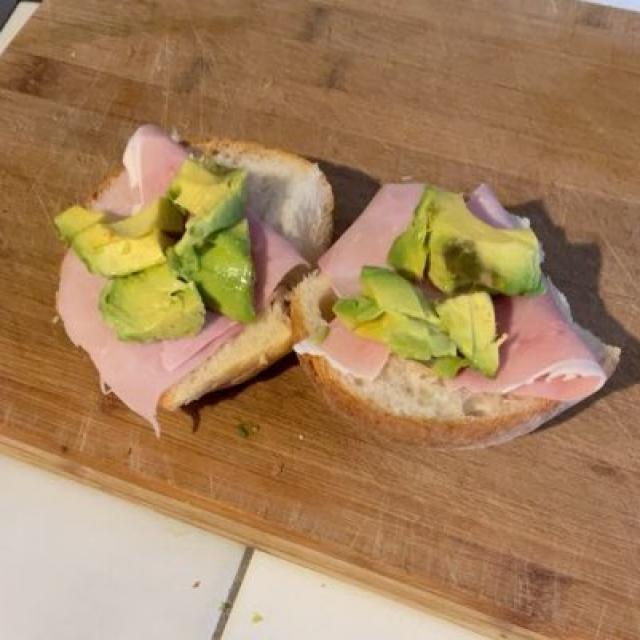avocado: (61, 158, 544, 378)
bread-white: (163, 131, 570, 455)
